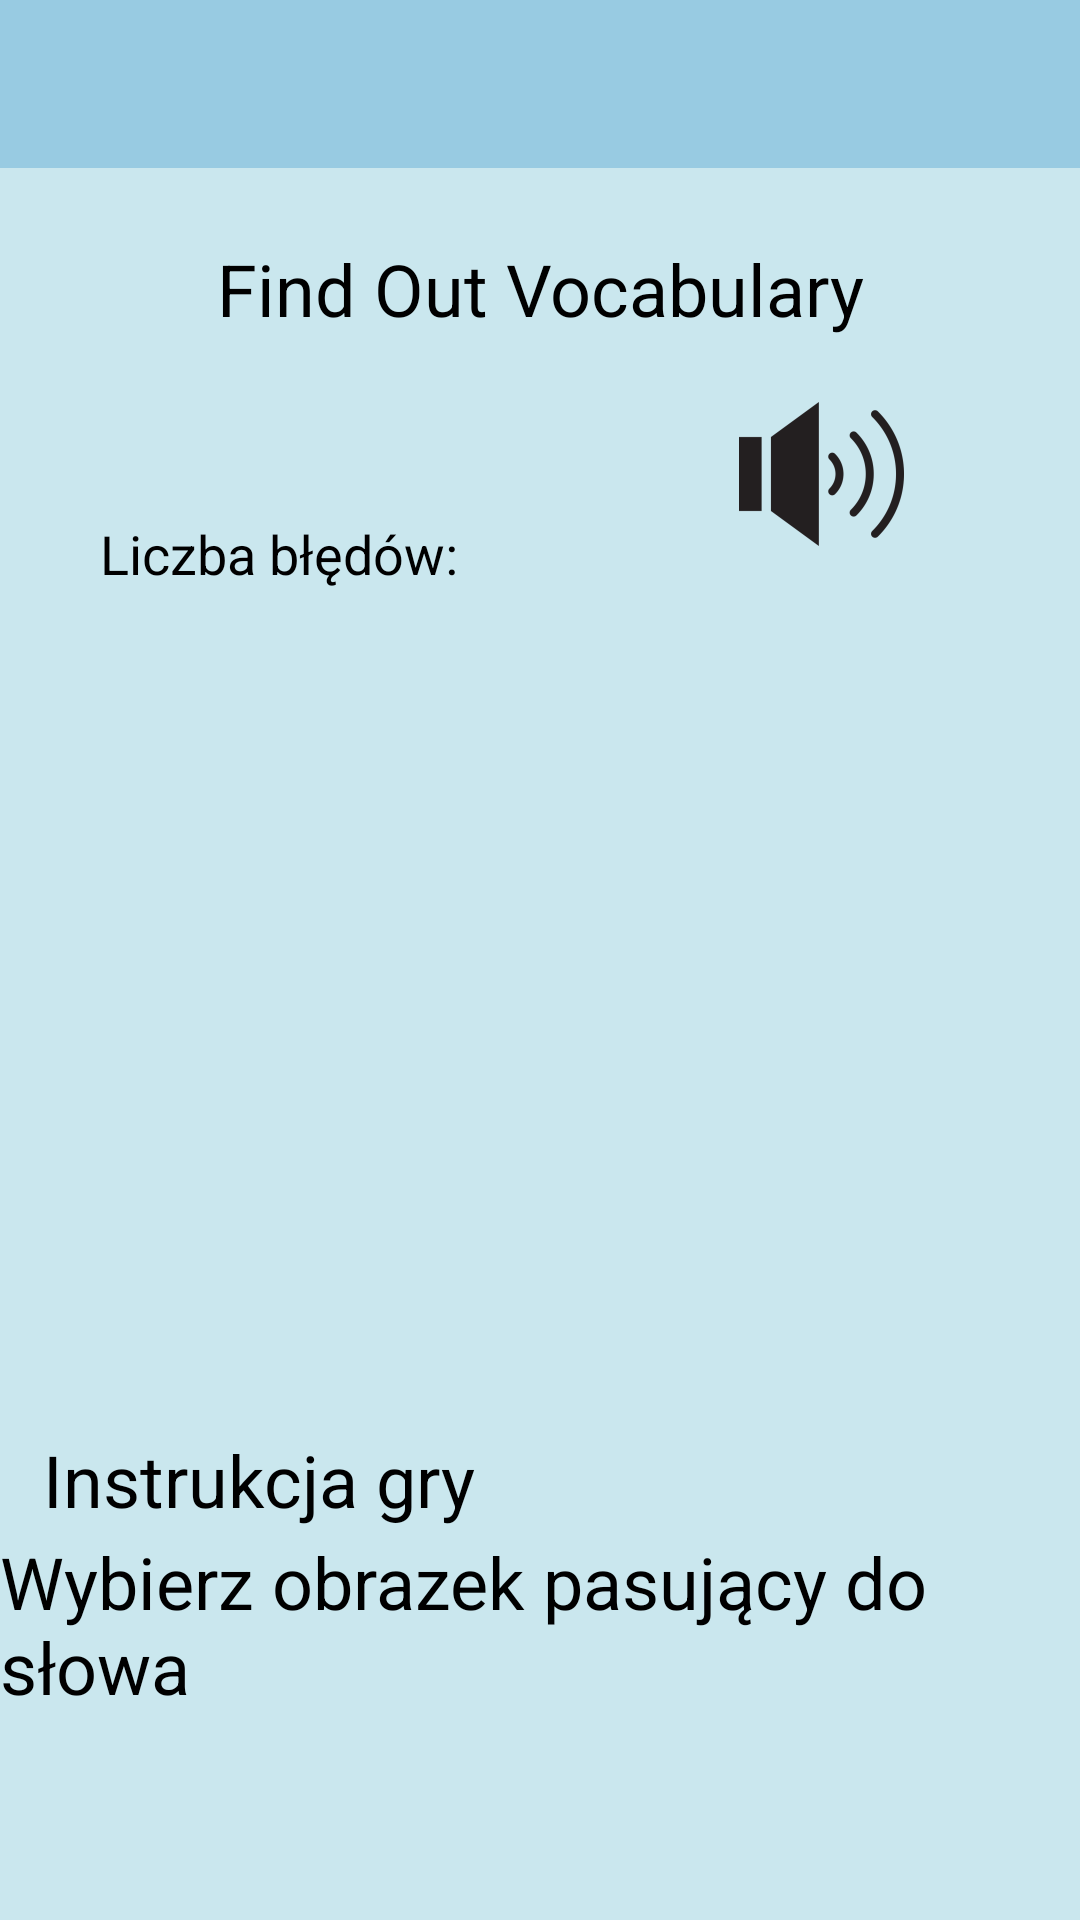

Where to tap for icons on this 1080x1920 app screen, as [x,y]:
speaker: [821,474]
